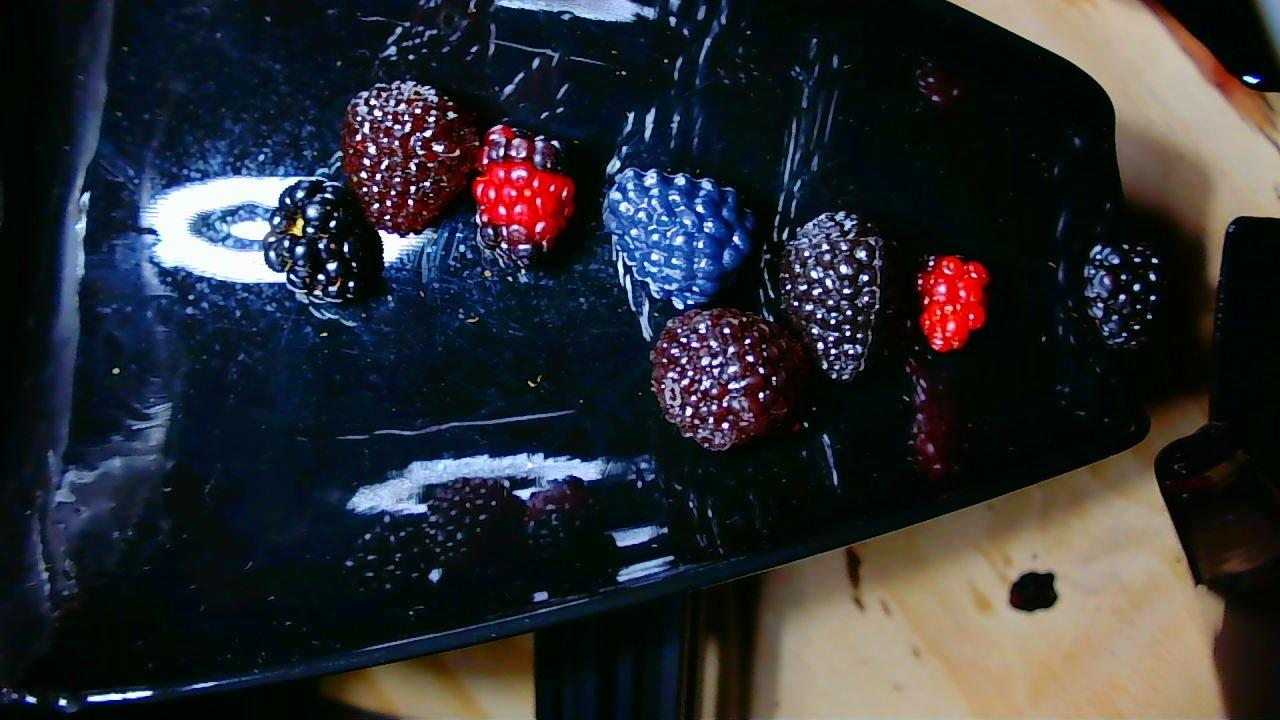berry: (650, 308, 805, 449), (602, 167, 752, 308), (342, 80, 479, 234), (779, 211, 886, 380), (261, 178, 379, 302), (473, 126, 574, 264), (1083, 241, 1162, 347), (916, 256, 988, 351)
